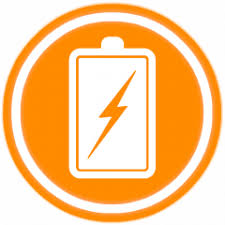charging sign: (61, 33, 161, 191)
